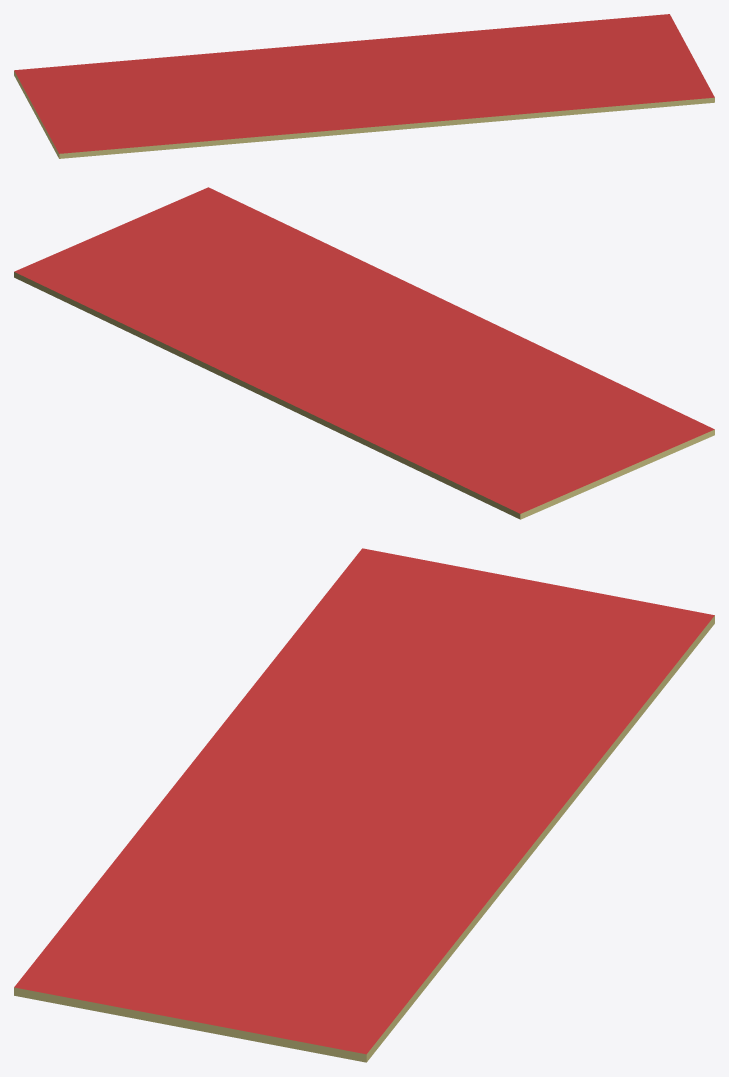
3 views of the same model, one above another, from view 1: azimuth 30°, elevation 25°; view 2: azimuth 150°, elevation 25°; view 3: azimuth 270°, elevation 25° (orthographic). The views are drawn at different scales.
Bounding box in the file's own units: 12.64 × 7.65 × 0.305.
